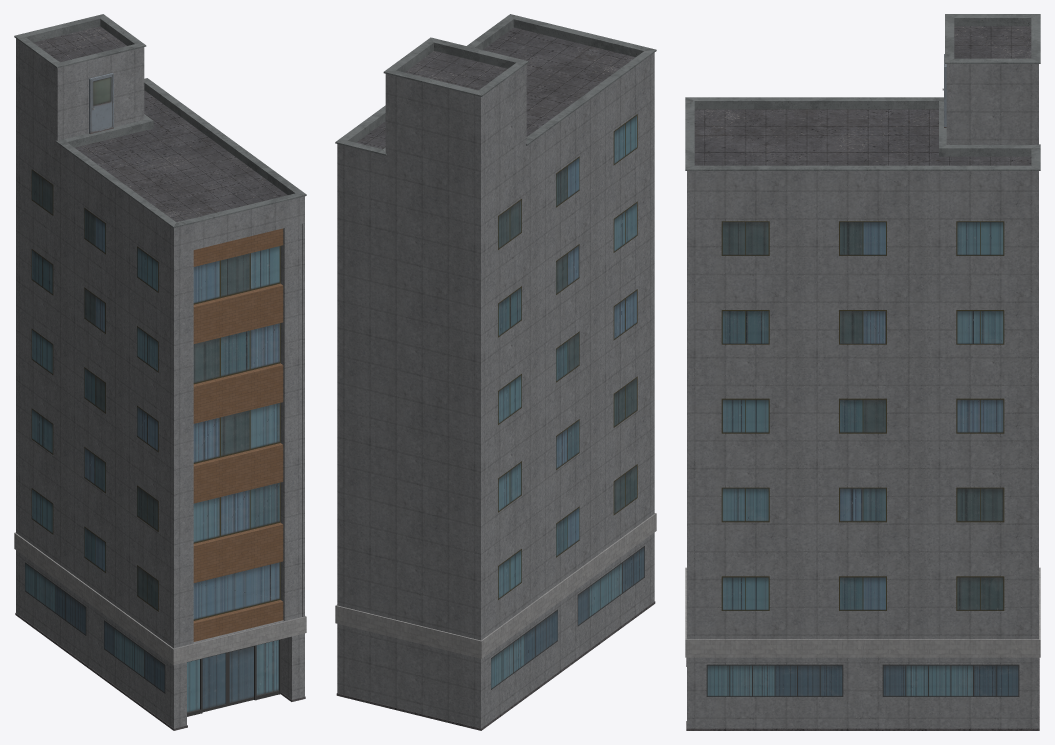
The model's file is jctBld12_6D_low.fbx.
3 renders of one model, left to right at view 1: azimuth 30°, elevation 25°; view 2: azimuth 150°, elevation 25°; view 3: azimuth 270°, elevation 25°, orthographic. The views are drawn at different scales.
Visible parts, largest first — view 1: jctBld12_6D_low; view 2: jctBld12_6D_low; view 3: jctBld12_6D_low.
Part boxes in pixels (x1,y1,x2,y2): jctBld12_6D_low: [14, 14, 306, 730]; jctBld12_6D_low: [335, 14, 656, 730]; jctBld12_6D_low: [685, 14, 1040, 730].
Size of the model in its own units: 560 by 2325 by 1160.
